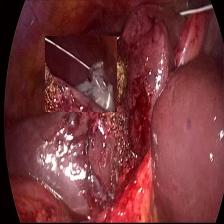Specimen Bag: (45, 36, 117, 112)
